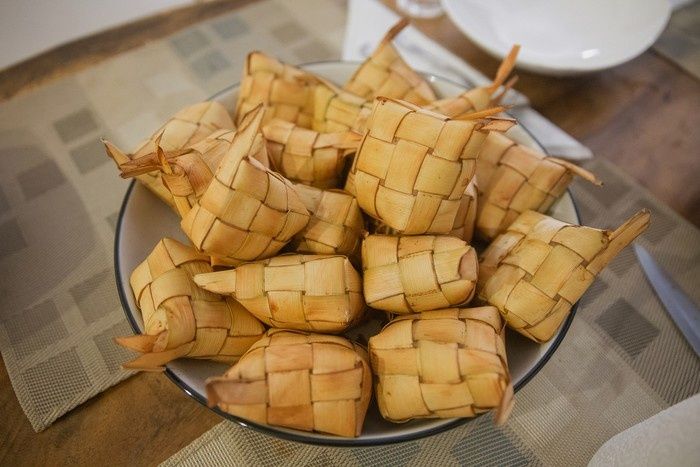ketupat: (343, 95, 490, 233), (480, 210, 614, 341), (178, 142, 310, 264)
